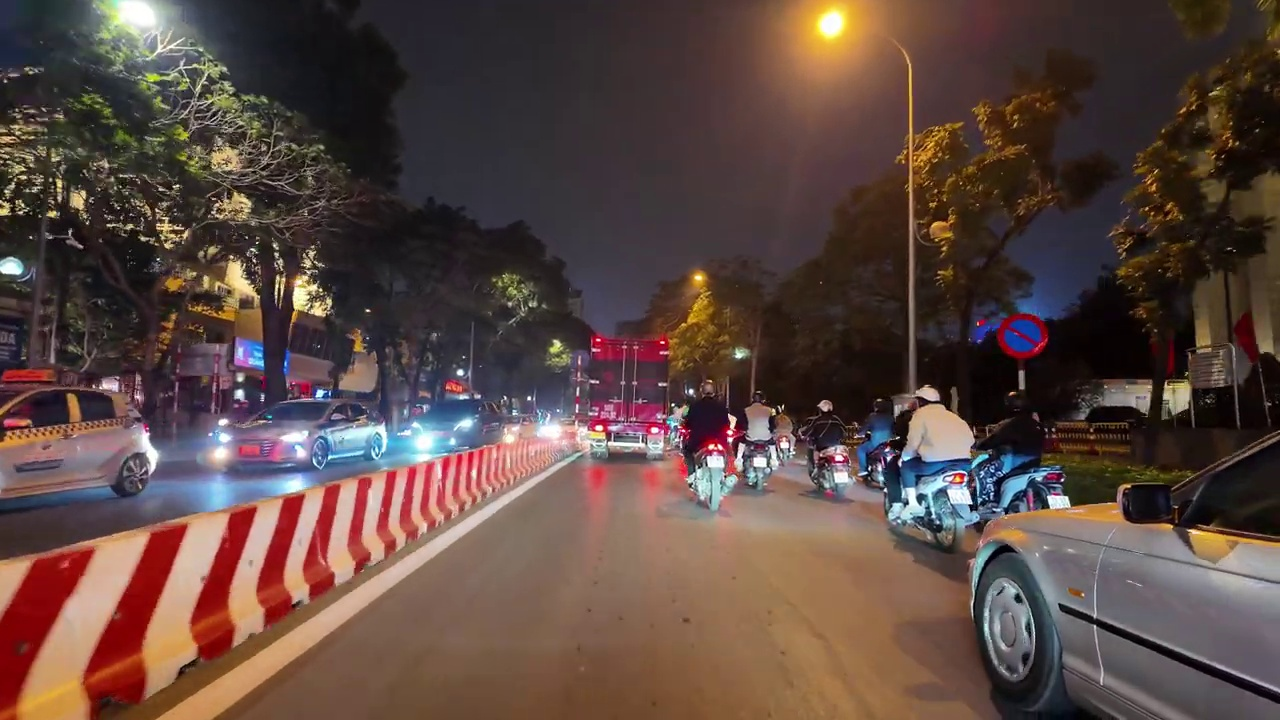acesa: (801, 3, 861, 56), (107, 1, 155, 35), (686, 268, 711, 296)
